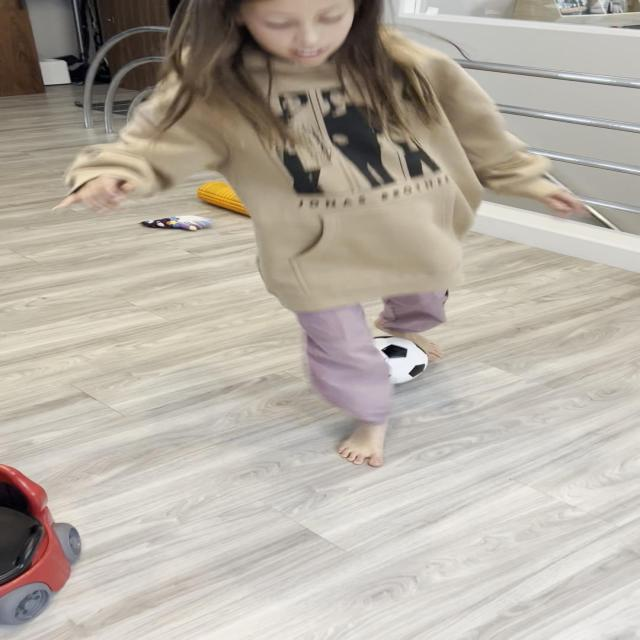Soccer Ball: (349, 337, 432, 387)
